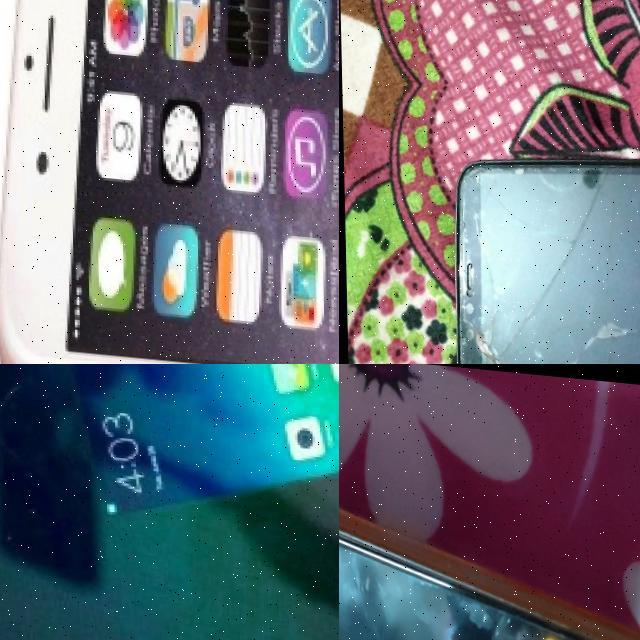screen crack: (463, 131, 640, 364)
